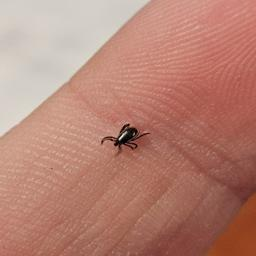Ixodes scapularis: (100, 124, 151, 157)
